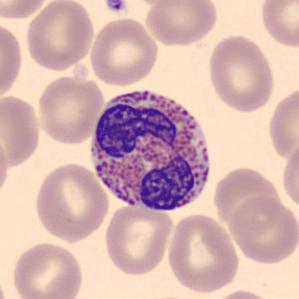Eosinophil: (85, 79, 219, 218)
Platelets: (104, 0, 128, 14)
RBC: (32, 161, 111, 244), (165, 212, 242, 294), (205, 32, 278, 114), (102, 202, 176, 276), (87, 16, 161, 88), (23, 0, 96, 72), (35, 72, 105, 146), (227, 194, 297, 266), (210, 166, 282, 232), (9, 239, 85, 299), (143, 0, 220, 48), (0, 92, 43, 169), (266, 82, 298, 164), (0, 19, 25, 102), (257, 0, 298, 50), (280, 139, 299, 213), (0, 0, 54, 21), (0, 131, 12, 202), (207, 287, 277, 299), (124, 0, 185, 6), (0, 267, 11, 299)
